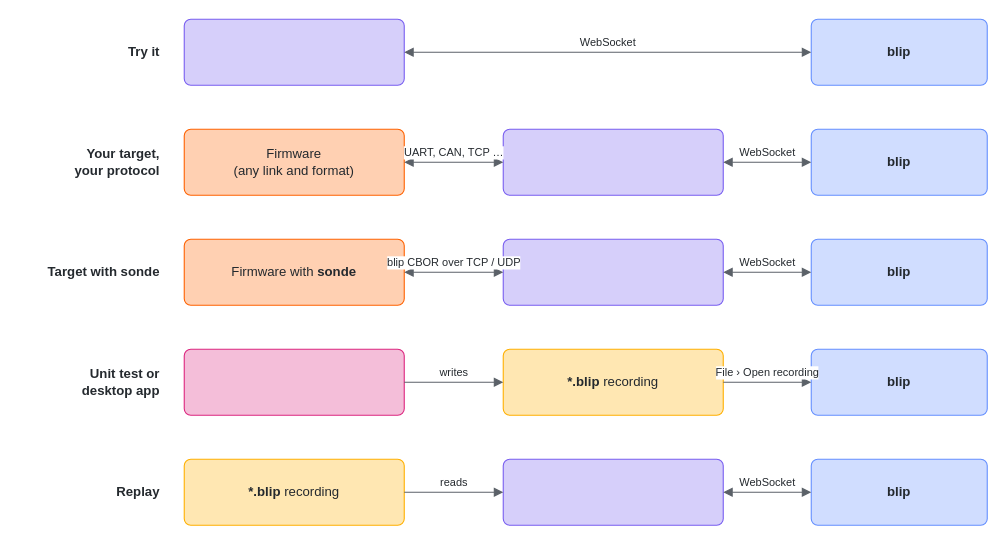
Image size: 1007x545. Some labels were removed from this diagram. Each missing label, with the centre of its shape:
"outpost --protocol replay" goes at point 612,491.
"outpost --protocol simulator" goes at point 293,51.
"outpost --protocol tcp / udp" goes at point 612,271.
"outpost with your Protocol class" goes at point 612,161.
"Test with sonde and a FileSink" goes at point 293,381.
